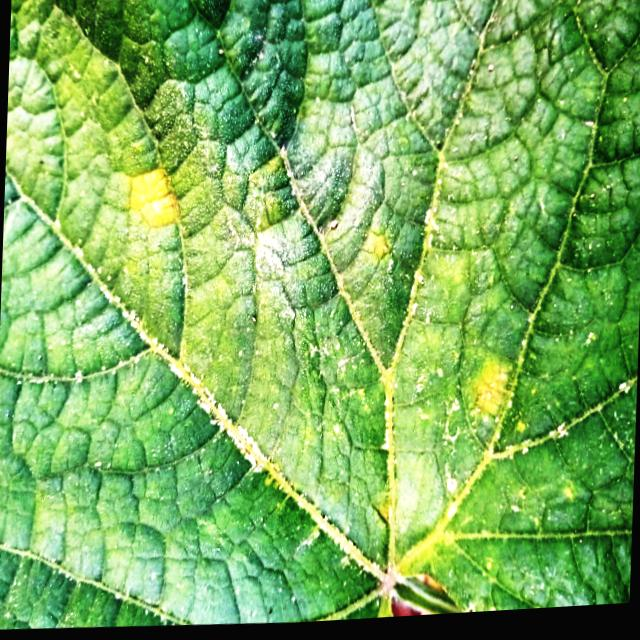Downy-Mildew: (102, 75, 640, 617)
